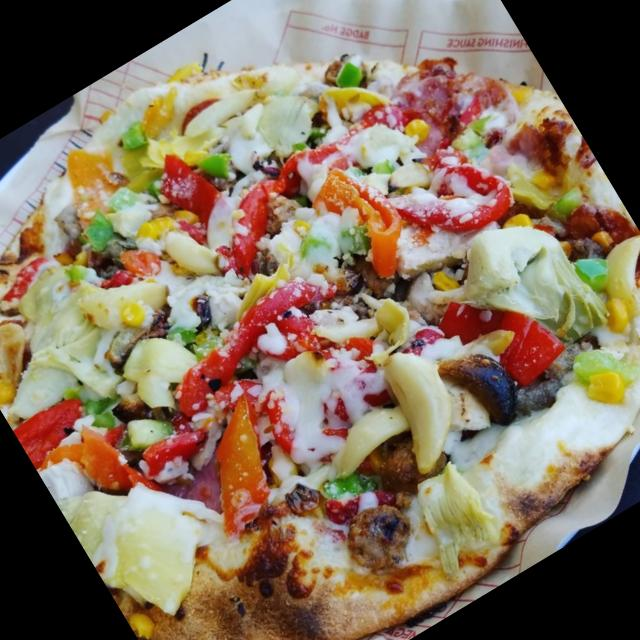mushrooms: (430, 331, 528, 440), (86, 297, 176, 372), (362, 429, 444, 509)
peppers: (154, 263, 346, 417), (432, 256, 580, 404), (297, 152, 426, 298), (383, 136, 525, 262), (175, 396, 302, 534), (182, 168, 314, 294), (361, 75, 457, 168), (53, 139, 141, 236), (64, 410, 152, 506), (11, 384, 98, 465), (152, 147, 228, 234), (262, 132, 346, 202), (86, 231, 168, 301), (0, 248, 55, 305), (193, 144, 240, 188), (331, 64, 364, 98)
pizza: (0, 53, 640, 640)
